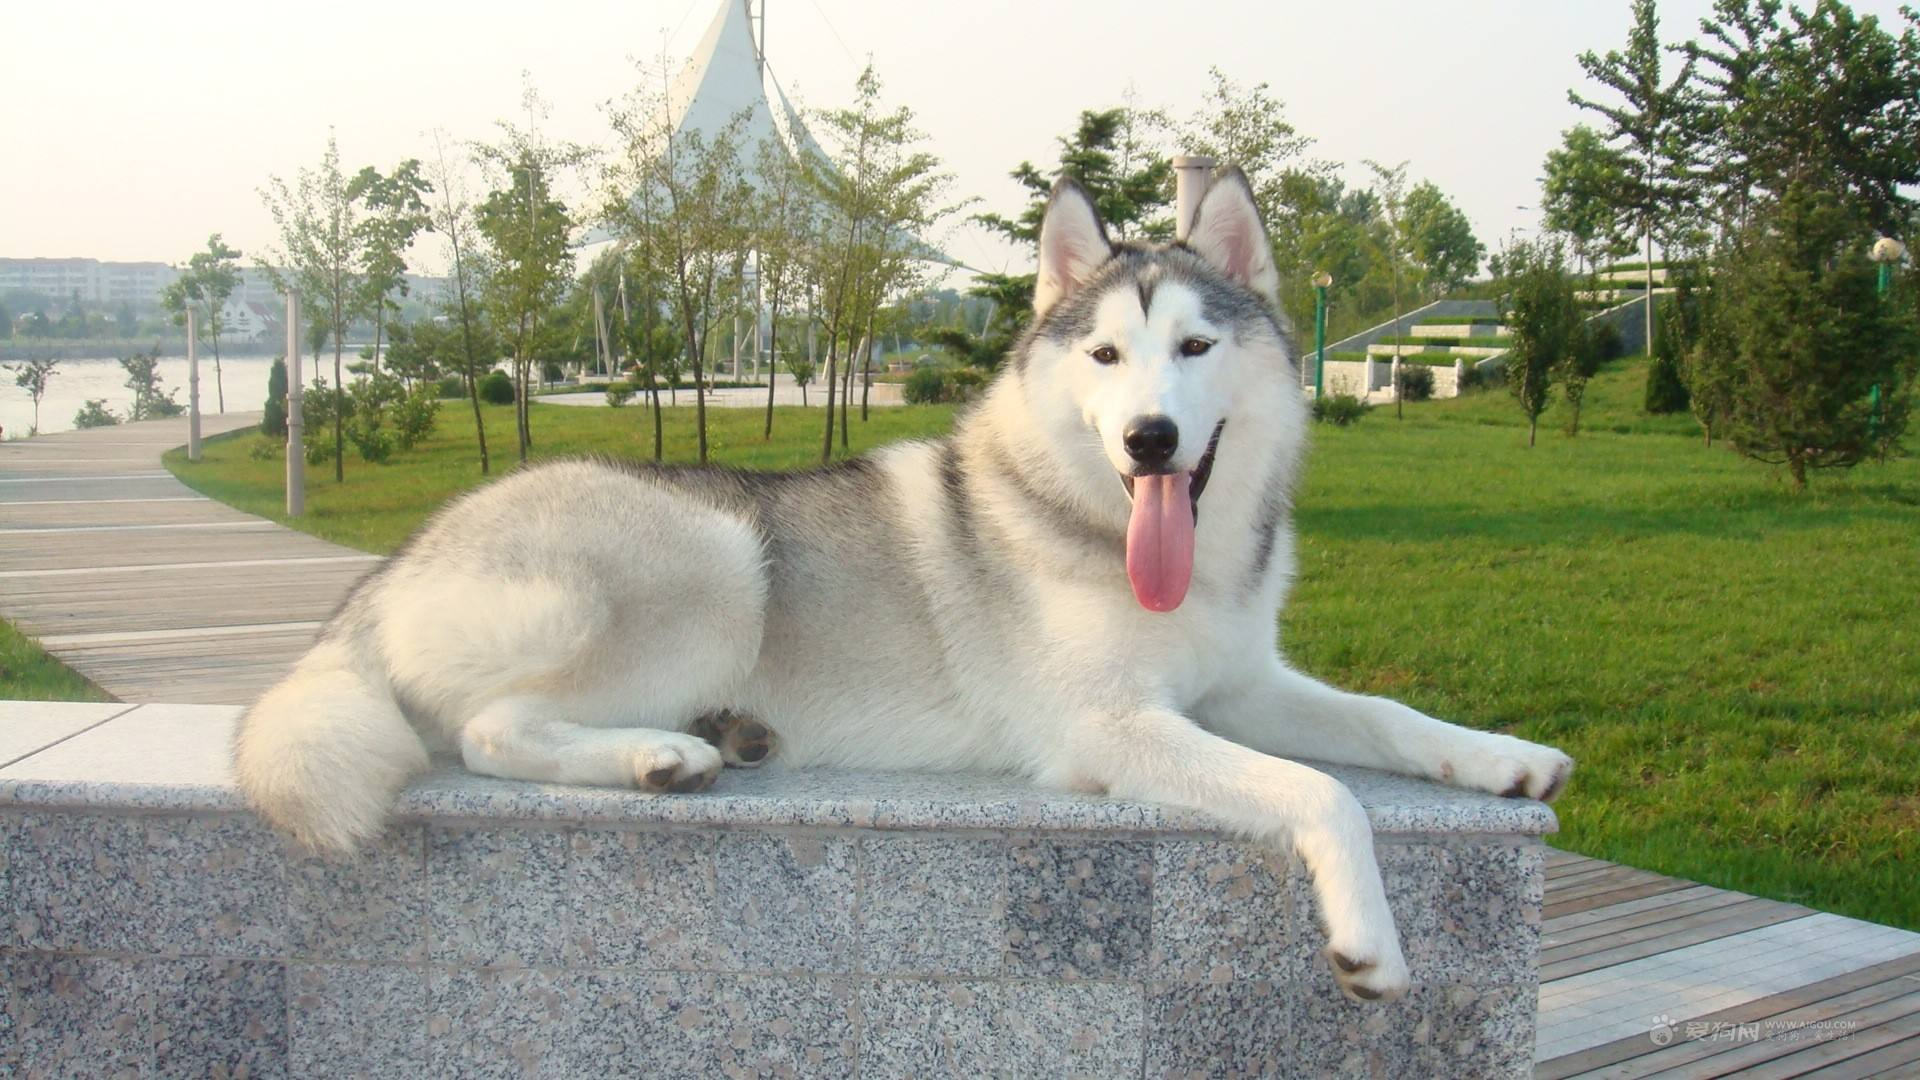dog: (237, 177, 1582, 858)
